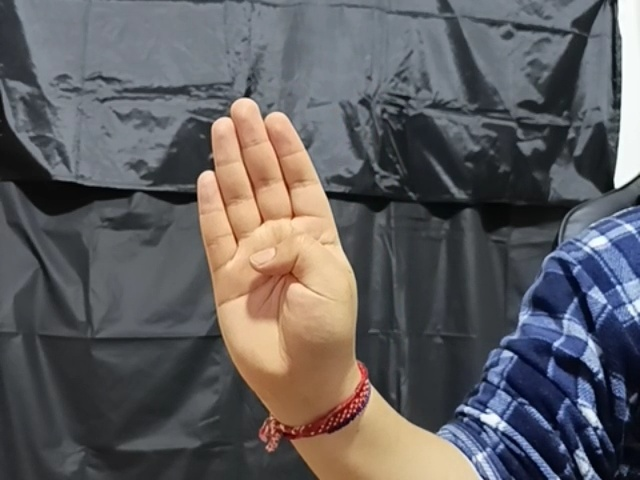B: (192, 97, 366, 373)
